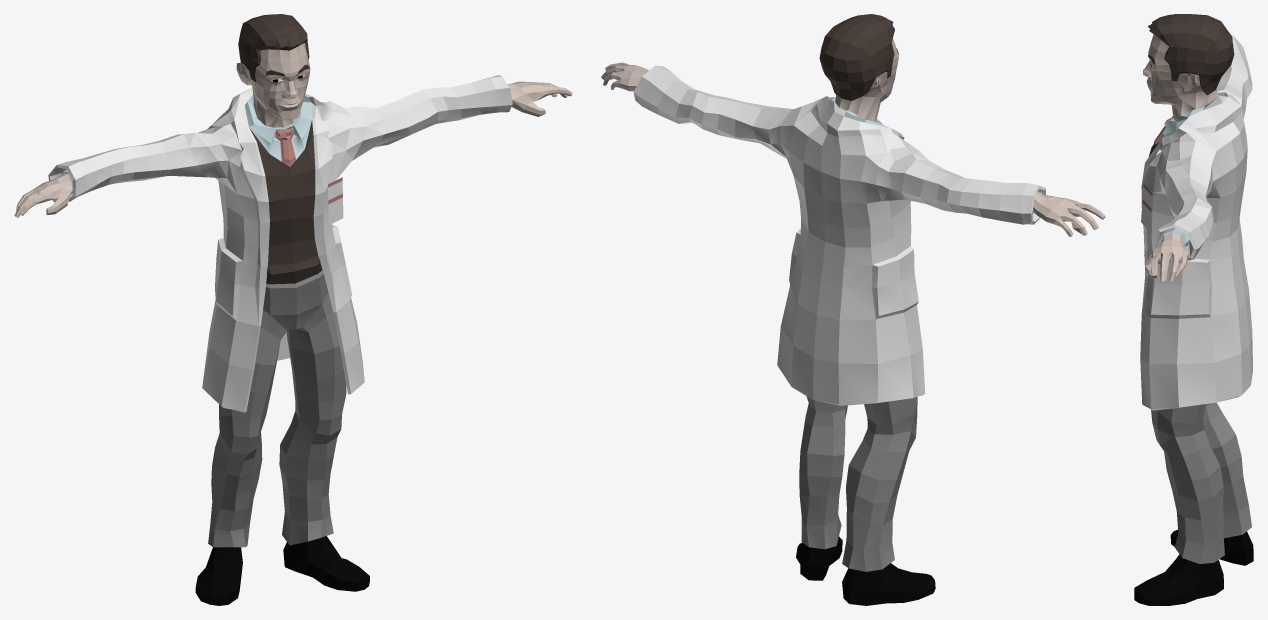
Rendered from RyanChoiTpose.fbx.
3 views of the same model, side by side, from view 1: azimuth 30°, elevation 25°; view 2: azimuth 150°, elevation 25°; view 3: azimuth 270°, elevation 25° (orthographic). The views are drawn at different scales.
Parts seen in each view (by area): view 1: RyanChoi.obj; view 2: RyanChoi.obj; view 3: RyanChoi.obj.
Boxes of the visible parts, bbox=[...] form: RyanChoi.obj: bbox=[14, 14, 572, 605]; RyanChoi.obj: bbox=[601, 14, 1105, 605]; RyanChoi.obj: bbox=[1134, 14, 1253, 605].
Size of the model in its own units: 176 by 180 by 35.09.
